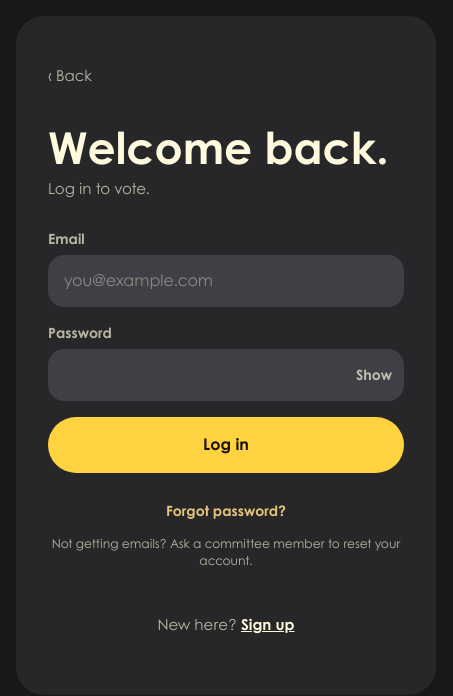
Test: Login › shows the mapped error in an alert
Type "a@b.co" into the field labelled "Email". click: (226, 281)
box: top-left (48, 255), bottom-right (404, 307)
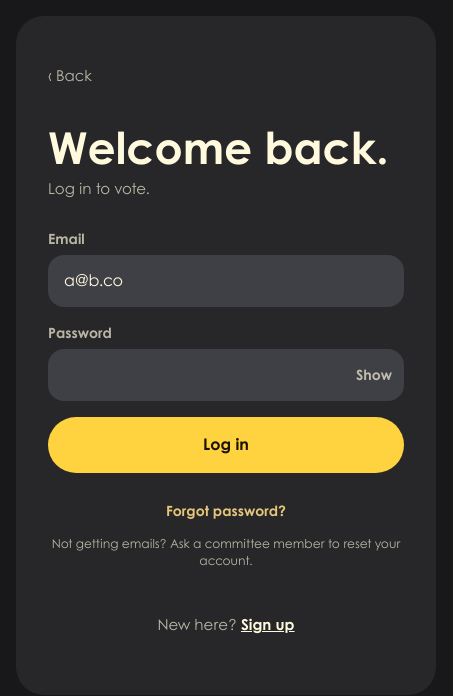
Type "nope" into the password field labelled "Password". click: (196, 375)
box: top-left (48, 349), bottom-right (344, 401)
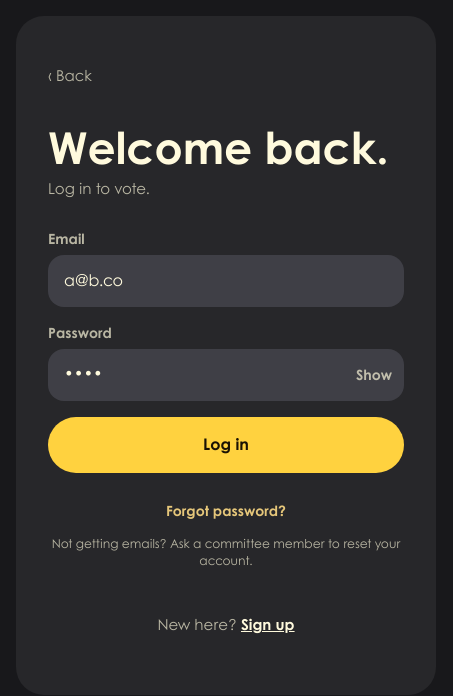
Click the button "Log in". click: click(226, 445)
box: top-left (48, 417), bottom-right (404, 473)
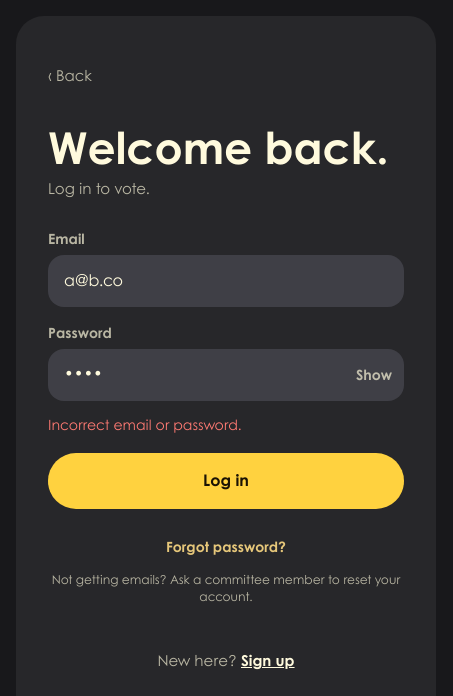
Expected: the message reads "Incorrect email or password.", top-left (48, 419), bottom-right (242, 433)
